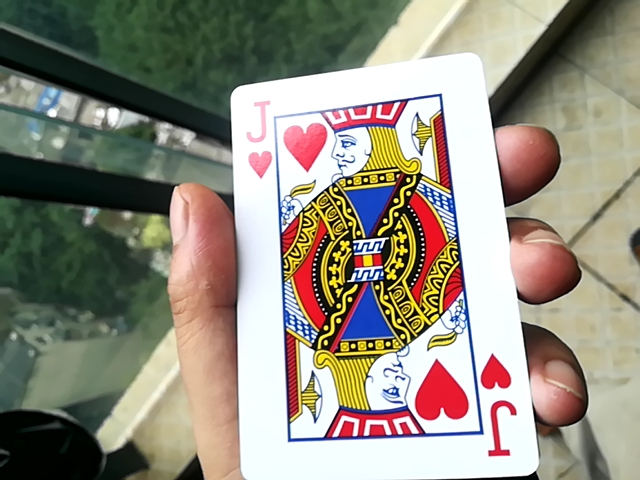hx j: (220, 42, 531, 480)
